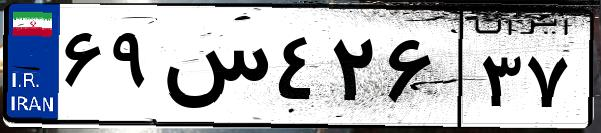2: (330, 28, 385, 110)
3: (475, 38, 525, 113)
4: (270, 28, 330, 110)
6: (385, 28, 445, 110), (57, 26, 110, 100)
7: (525, 38, 570, 115)
9: (110, 28, 158, 98)
س: (158, 20, 270, 120)
